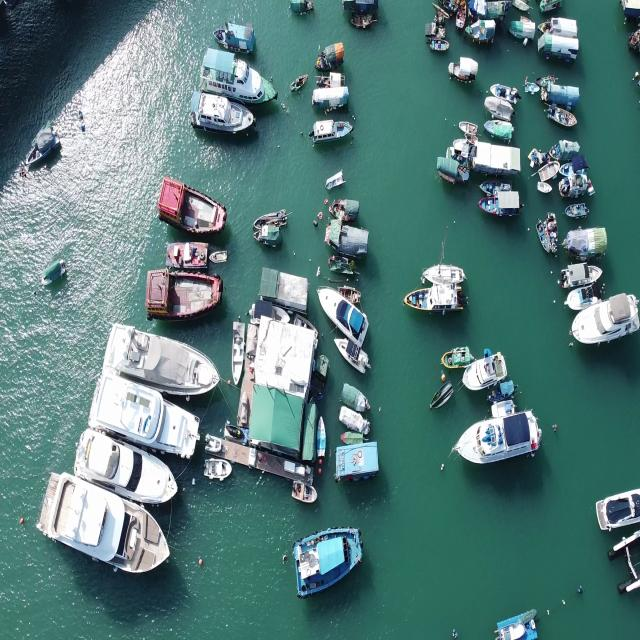ship: (28, 478, 177, 578), (92, 322, 222, 404), (88, 373, 200, 462), (64, 431, 188, 507), (290, 524, 366, 604), (140, 264, 230, 320), (450, 412, 548, 463), (192, 47, 278, 105), (152, 176, 232, 238), (562, 289, 638, 344), (188, 92, 255, 133)
